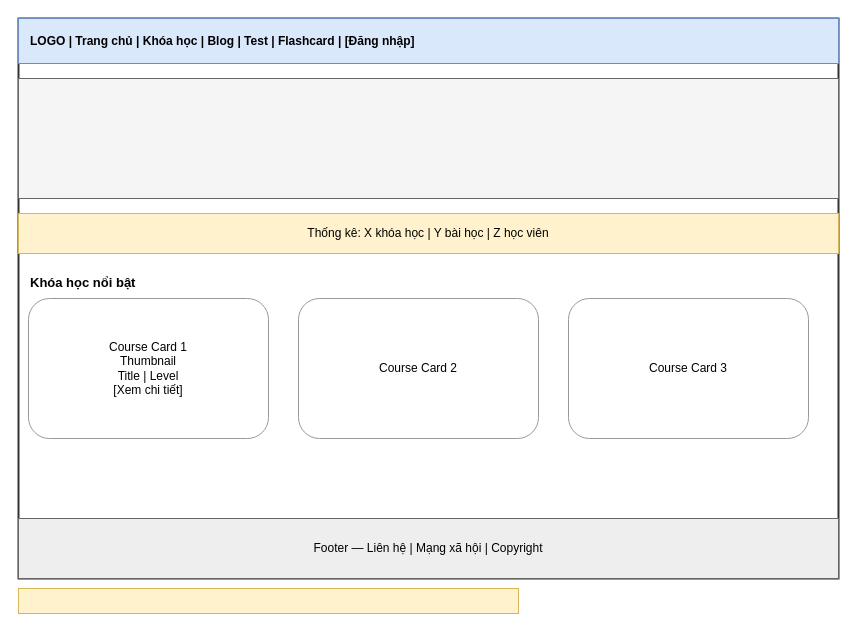
Image size: 856x631. Some labels were removed from this diagram. The centre of each missing label's shape, as x and y in pixels:
"HERO SECTION Học tiếng Nhật cùng JPMaster [Bắt đầu ngay] [Khám phá khóa học]" belongs at point 428,138.
"Wireframe thiết kế giao diện — §4.2.1 (không phải sản phẩm cuối)" belongs at point 268,601.
